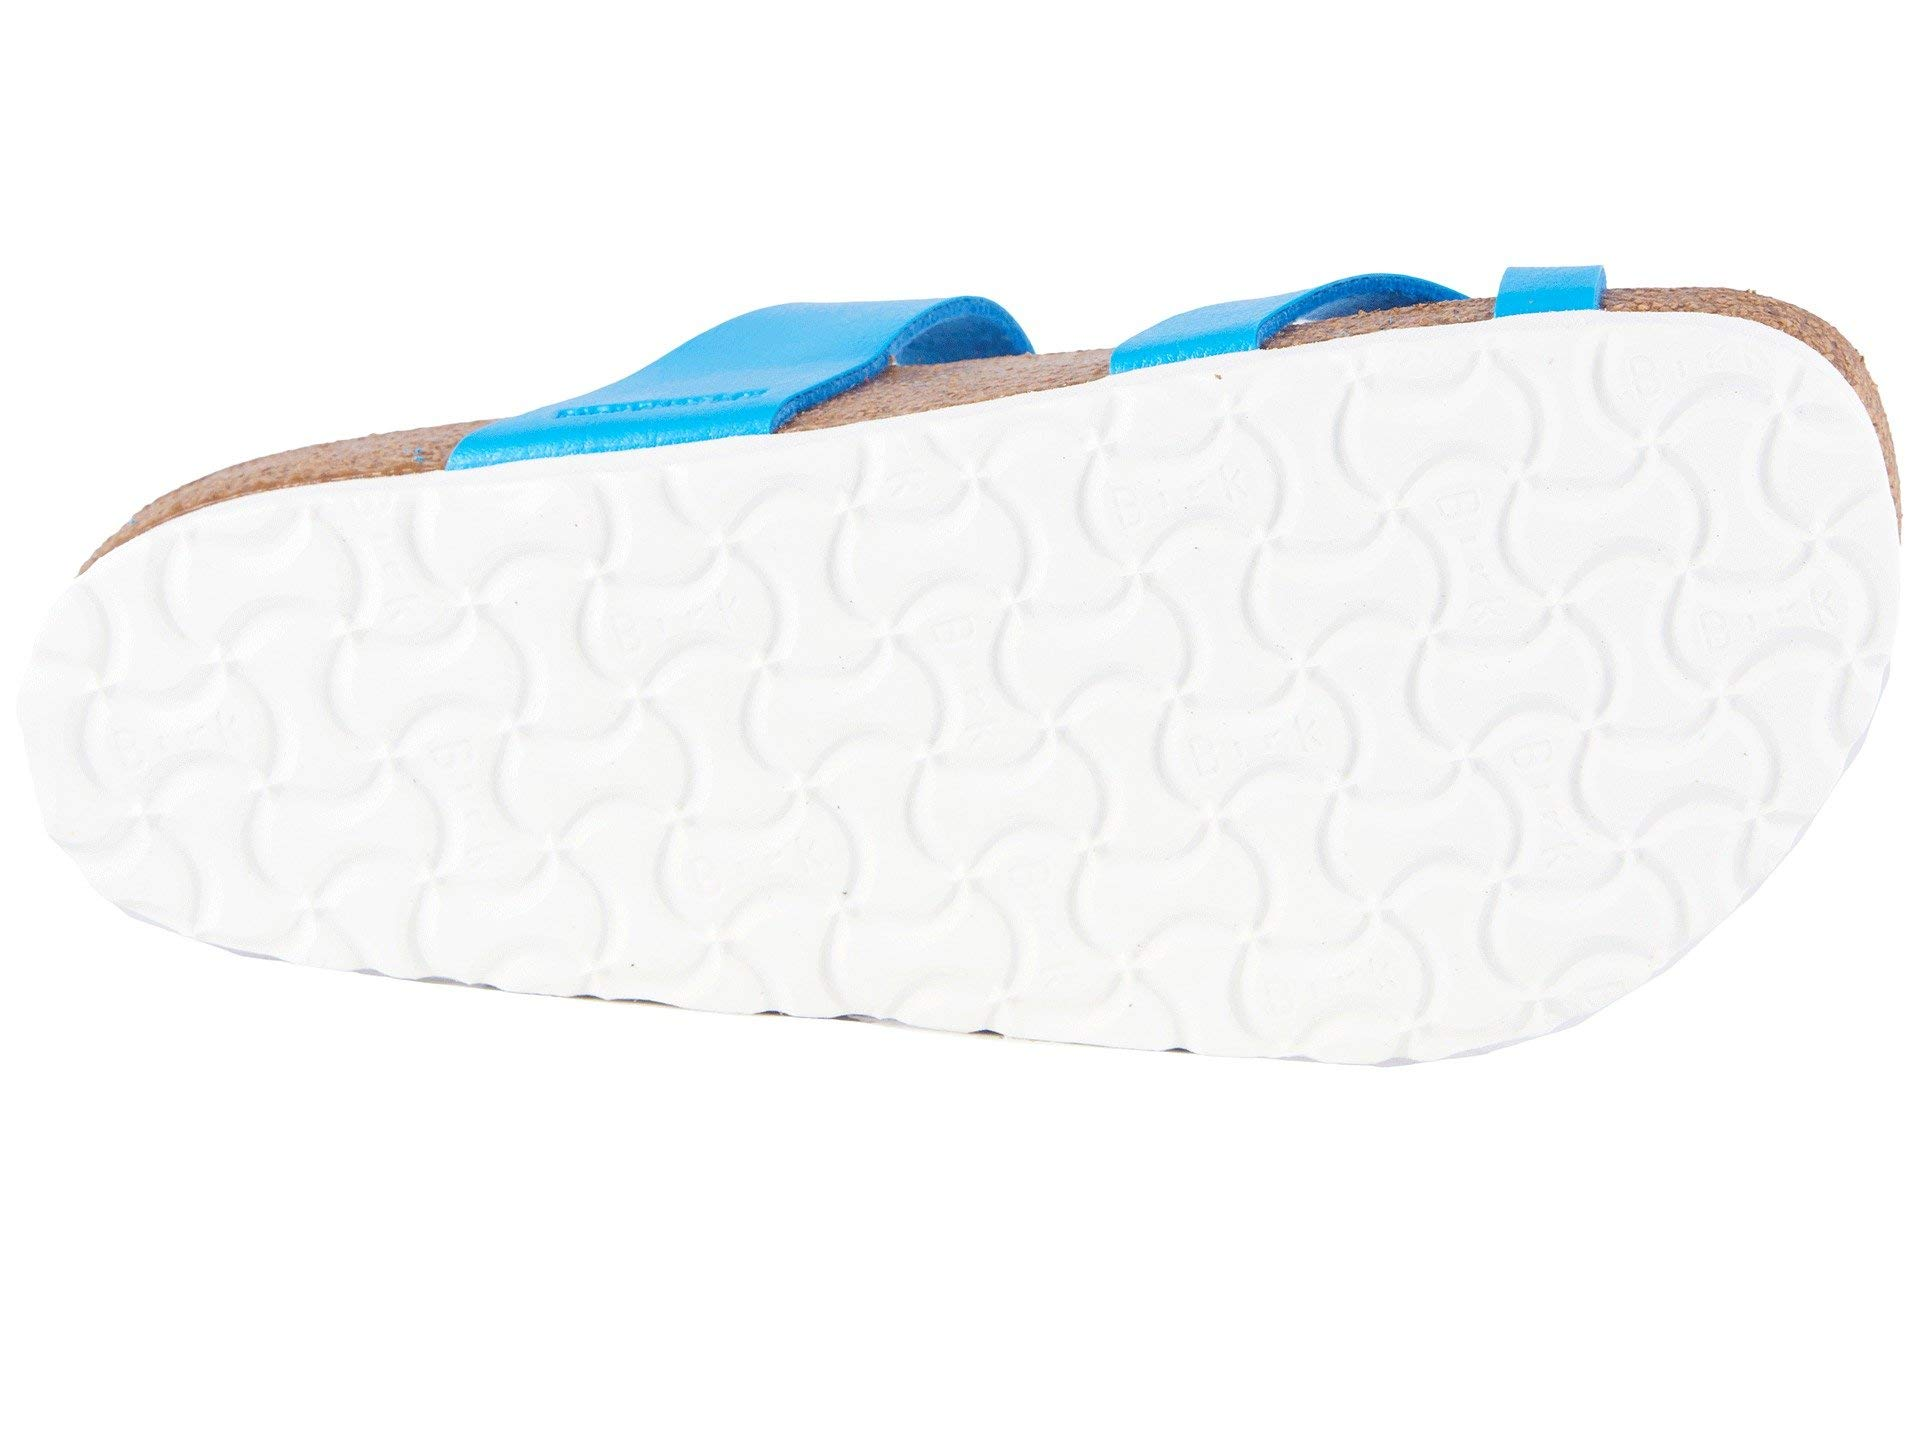bowtie: (281, 517, 1669, 861)
